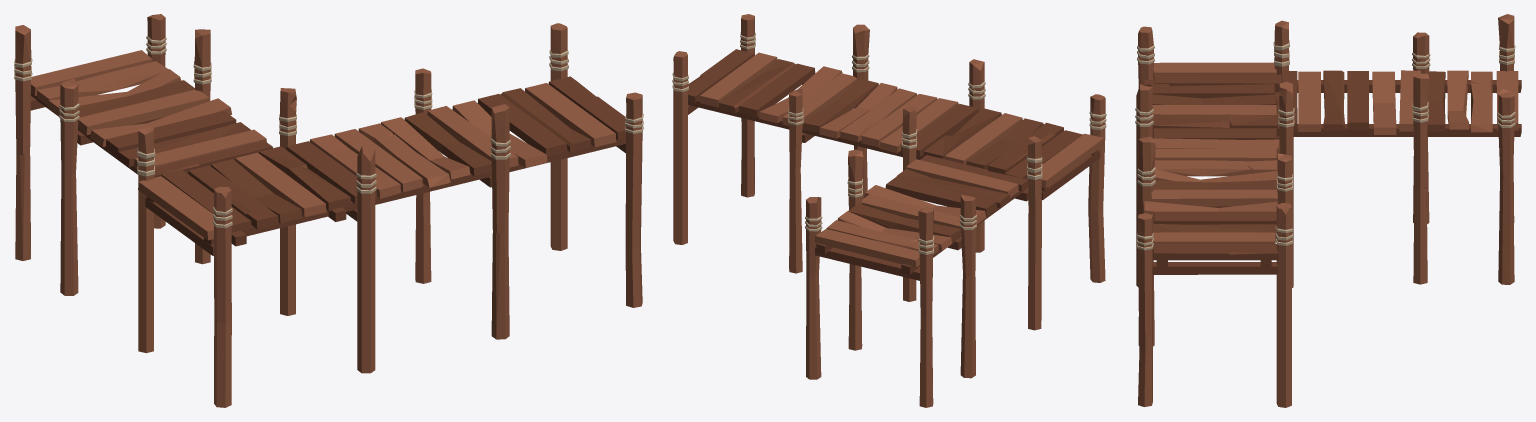
The model's file is Footbridge_2.fbx.
3 renders of one model, left to right at view 1: azimuth 30°, elevation 25°; view 2: azimuth 150°, elevation 25°; view 3: azimuth 270°, elevation 25°, orthographic. The views are drawn at different scales.
Parts seen in each view (by area): view 1: Footbridge_2; view 2: Footbridge_2; view 3: Footbridge_2.
Part boxes in pixels (left/top/right/bottom): Footbridge_2: left=14, top=14, right=643, bottom=407; Footbridge_2: left=672, top=14, right=1106, bottom=407; Footbridge_2: left=1135, top=14, right=1521, bottom=407.
Size of the model in its own units: 8.95 by 4.51 by 7.66.
